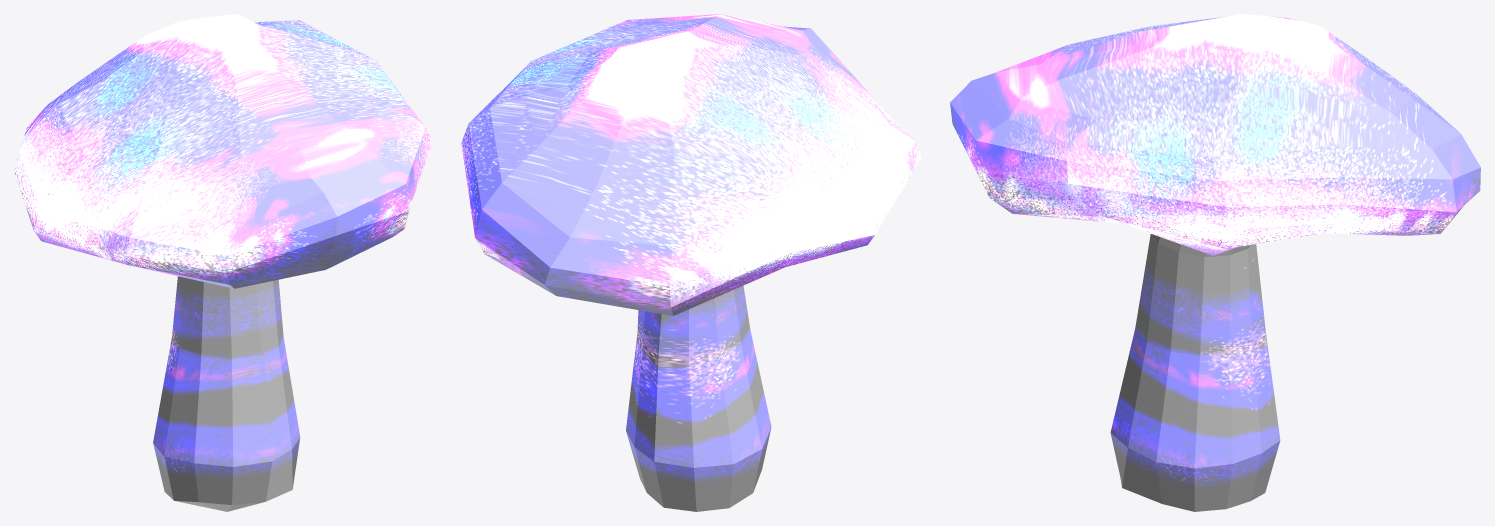
The model's file is mushrooms.glb.
3 views of the same model, side by side, from view 1: azimuth 30°, elevation 25°; view 2: azimuth 150°, elevation 25°; view 3: azimuth 270°, elevation 25° (orthographic). The views are drawn at different scales.
Parts seen in each view (by area): view 1: Sphere; view 2: Sphere; view 3: Sphere.
Boxes of the visible parts, box(x1,y1,x2,y2) form: Sphere: box(14, 14, 432, 511); Sphere: box(461, 14, 921, 511); Sphere: box(950, 14, 1480, 511).
Size of the model in its own units: 1.87 by 2.34 by 2.23.
